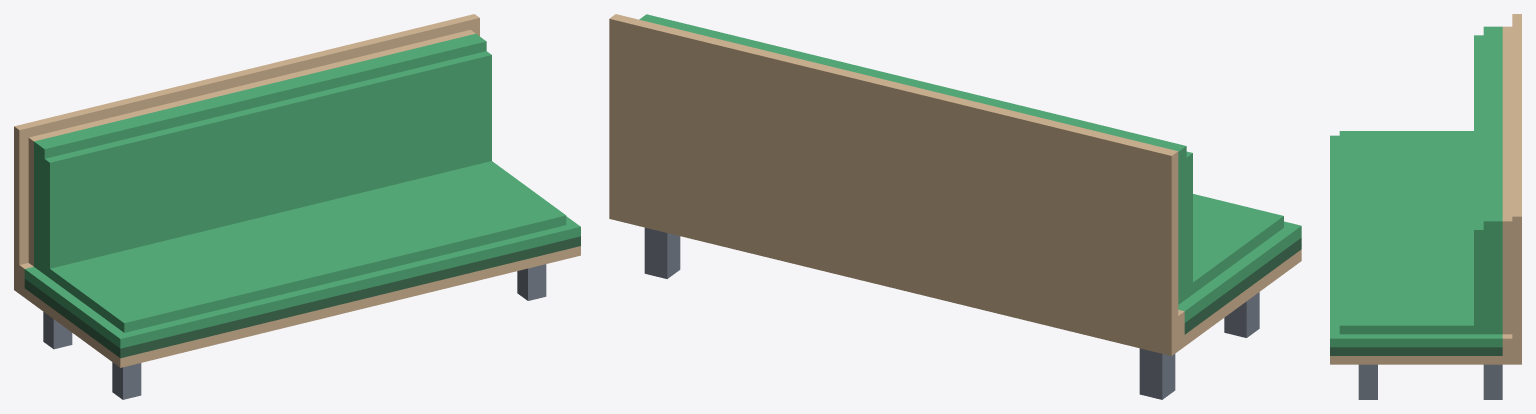
Rendered from CafeSeat.obj.
3 views of the same model, side by side, from view 1: azimuth 30°, elevation 25°; view 2: azimuth 150°, elevation 25°; view 3: azimuth 270°, elevation 25° (orthographic). The views are drawn at different scales.
Bounding box in the file's own units: 5 × 2.2 × 2.
Materials: 1 (1 with a texture image).
